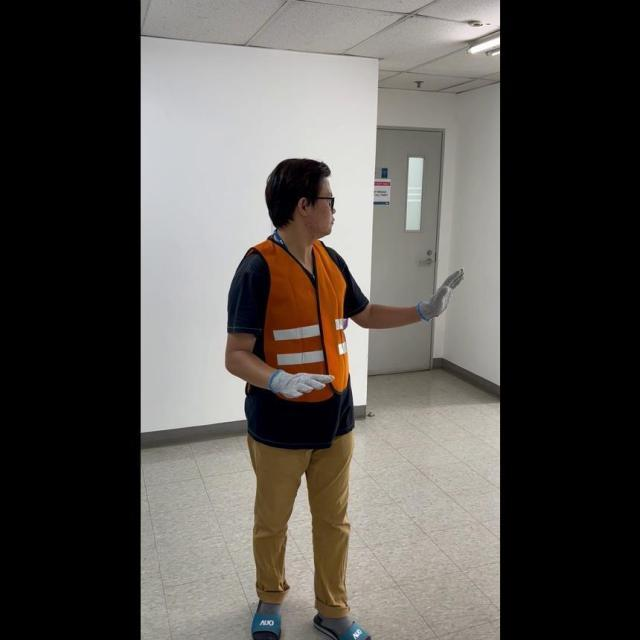gloved_hand: (415, 263, 464, 321), (266, 362, 333, 400)
